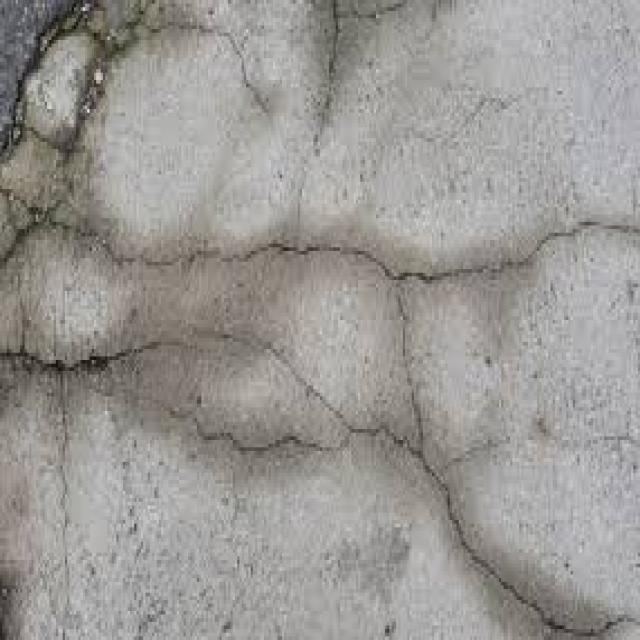crack: (350, 402, 639, 636), (254, 221, 639, 283), (2, 341, 158, 374)
